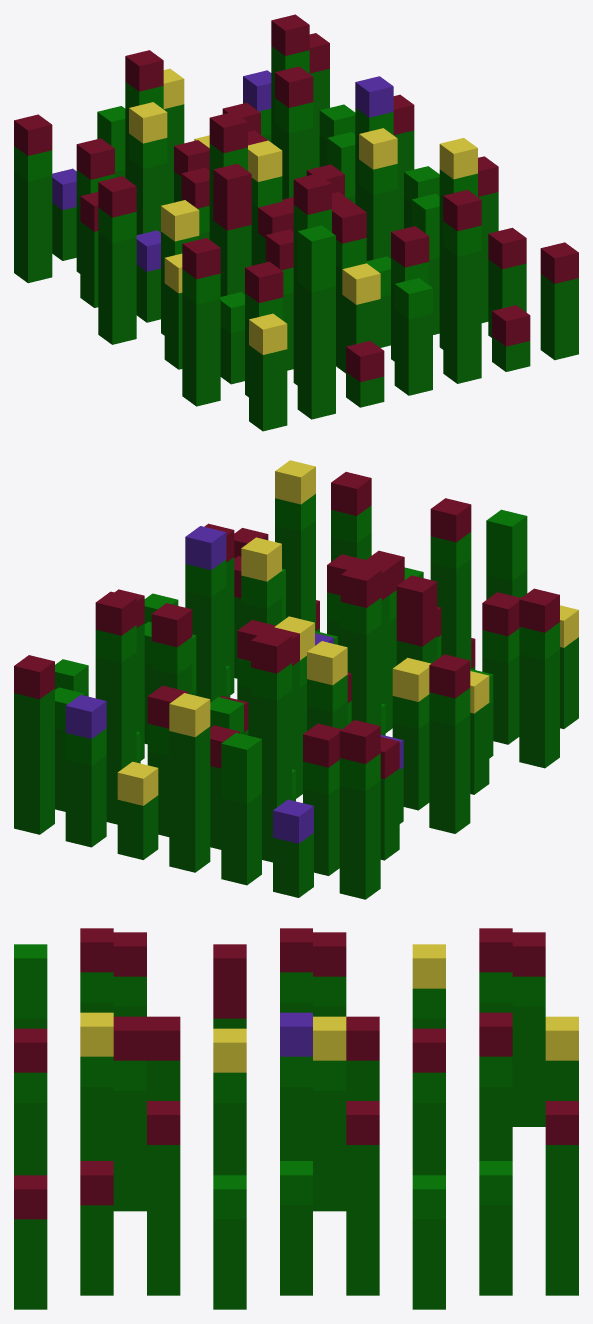
File: Plants-9.obj
3 renders of one model, top to bottom at view 1: azimuth 30°, elevation 25°; view 2: azimuth 150°, elevation 25°; view 3: azimuth 270°, elevation 25°, orthographic. The views are drawn at different scales.
Size of the model in its own units: 1.4 by 0.8 by 1.7.
Materials: 1 (1 with a texture image).
